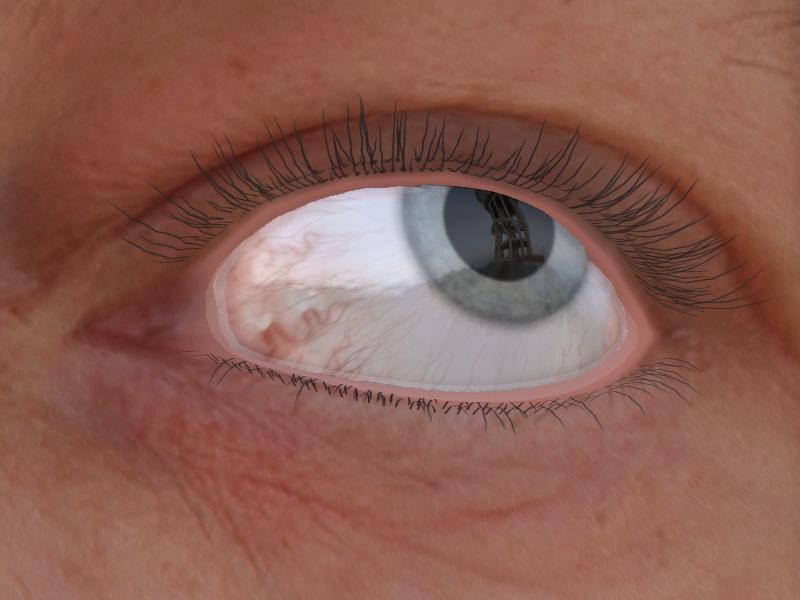eye: (399, 183, 588, 322)
